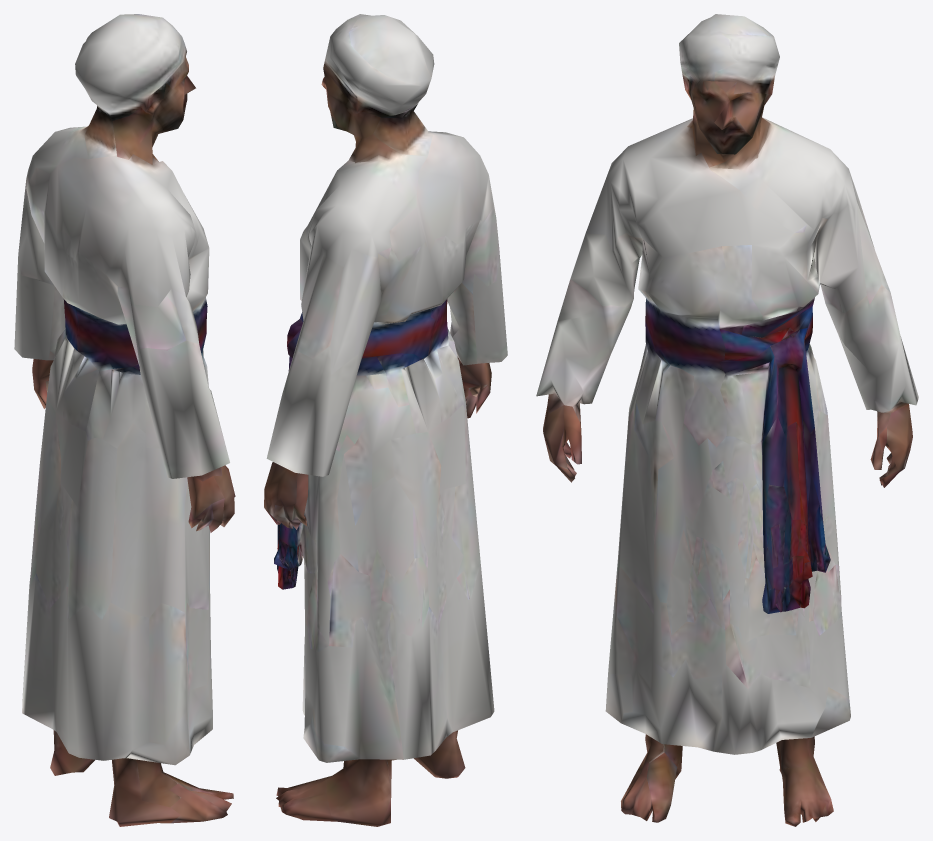
The model's file is priest.glb.
3 renders of one model, left to right at view 1: azimuth 30°, elevation 25°; view 2: azimuth 150°, elevation 25°; view 3: azimuth 270°, elevation 25°, orthographic.
Parts seen in each view (by area): view 1: tripo_node_7bef17ff-1955-4166-8e7f-3b369a61d756; view 2: tripo_node_7bef17ff-1955-4166-8e7f-3b369a61d756; view 3: tripo_node_7bef17ff-1955-4166-8e7f-3b369a61d756.
Part boxes in pixels (box(x1,y1,x2,y2)): tripo_node_7bef17ff-1955-4166-8e7f-3b369a61d756: box(14, 14, 235, 826); tripo_node_7bef17ff-1955-4166-8e7f-3b369a61d756: box(264, 14, 507, 826); tripo_node_7bef17ff-1955-4166-8e7f-3b369a61d756: box(536, 14, 918, 826).
Bounding box in the file's own units: 0.2205 × 0.9777 × 0.4349.
Materials: 1 (1 with a texture image).
